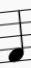note: (7, 6, 25, 63)
